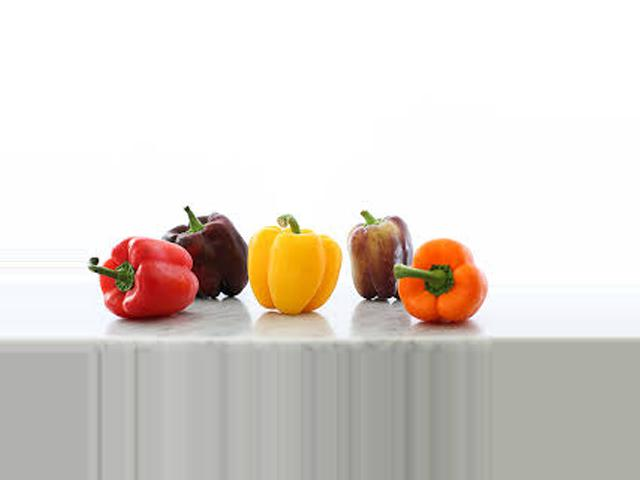bell_pepper: (392, 208, 488, 334)
